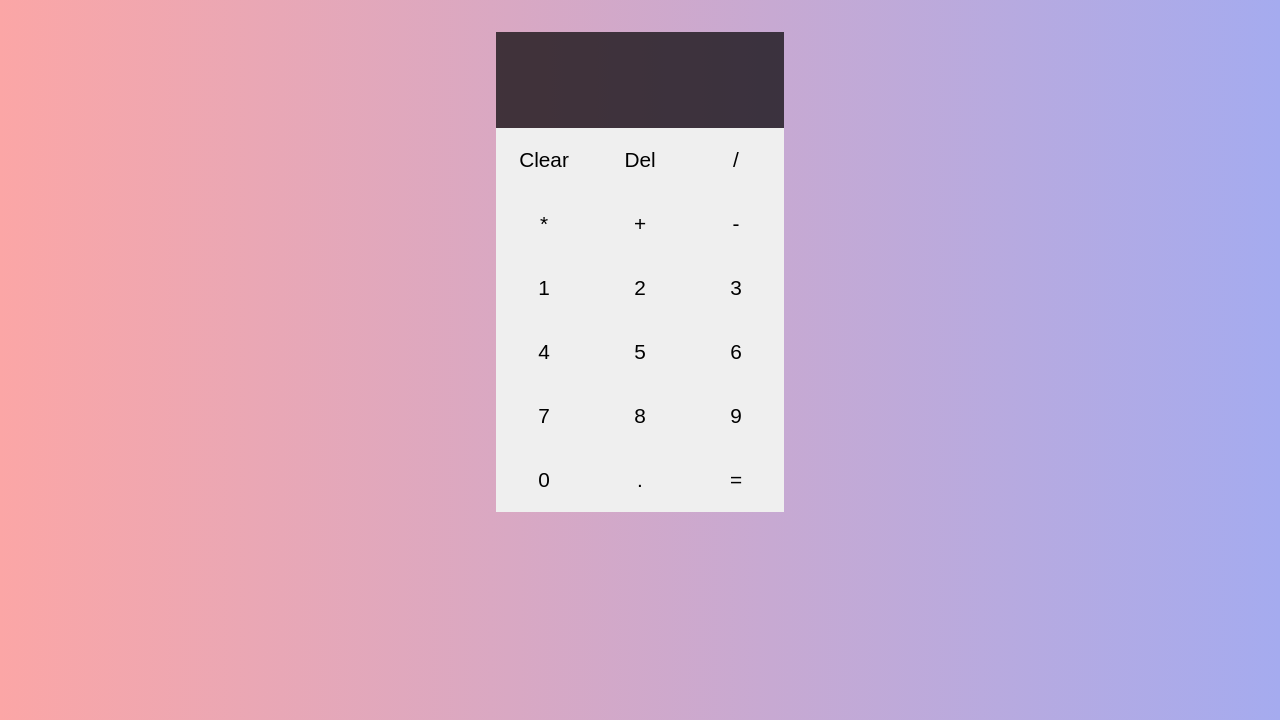
Test case: Operation tests › Should clear all output
What coordinates should you click on to do the following:
click the button "1"
I would click on:
 (544, 288)
Its box is [496,256,592,320].
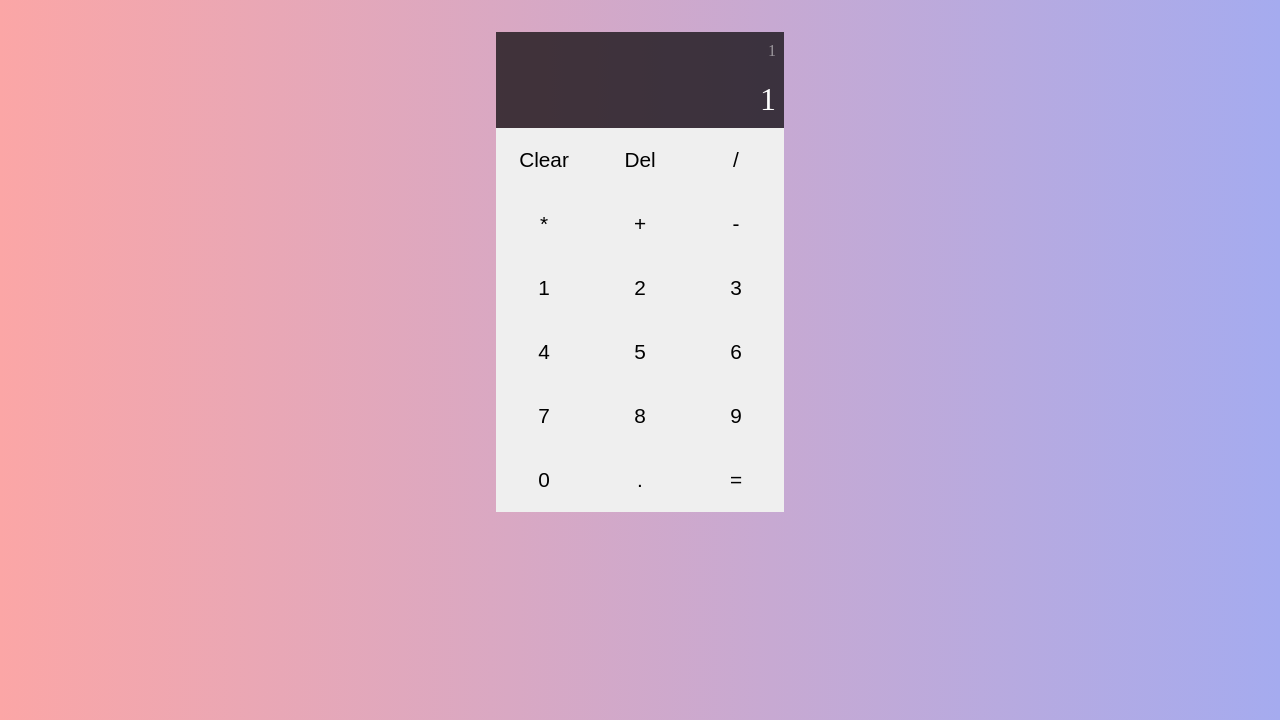
What coordinates should you click on to do the following:
click the button "+"
I would click on:
 (640, 224)
Its box is [592,192,688,256].
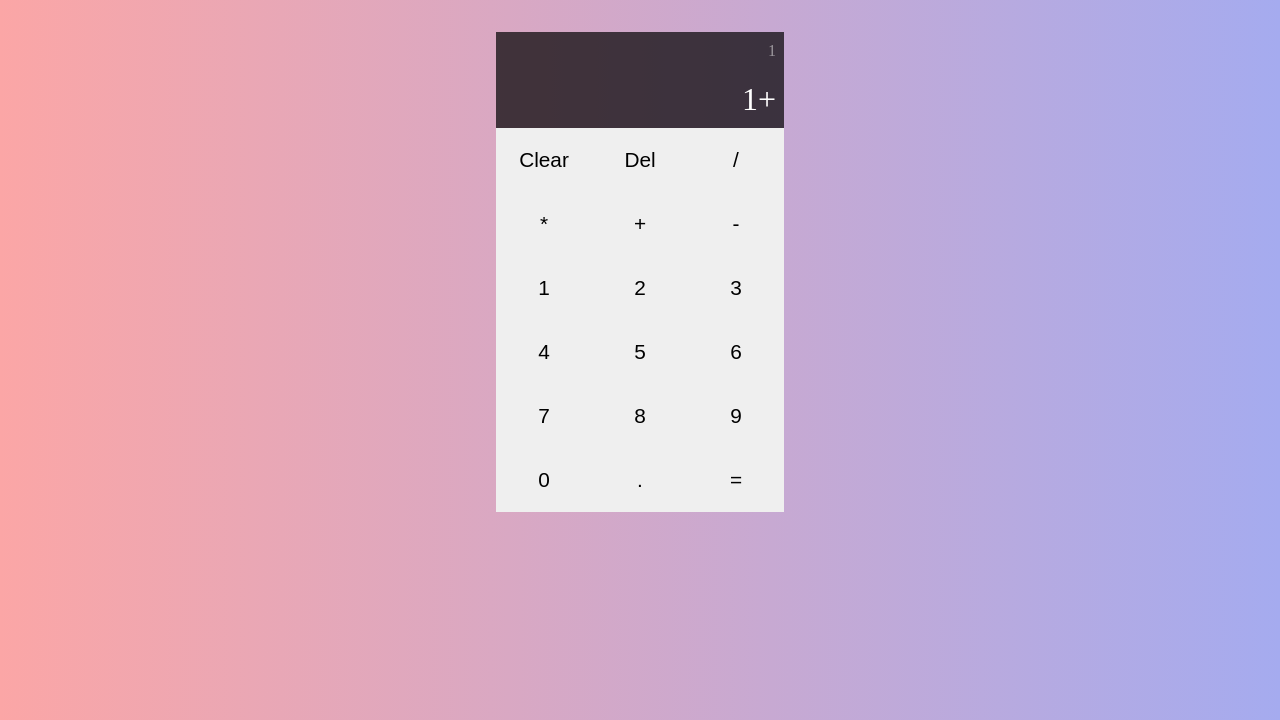
What coordinates should you click on to do the following:
click the button "2"
I would click on:
 (640, 288)
Its box is [592,256,688,320].
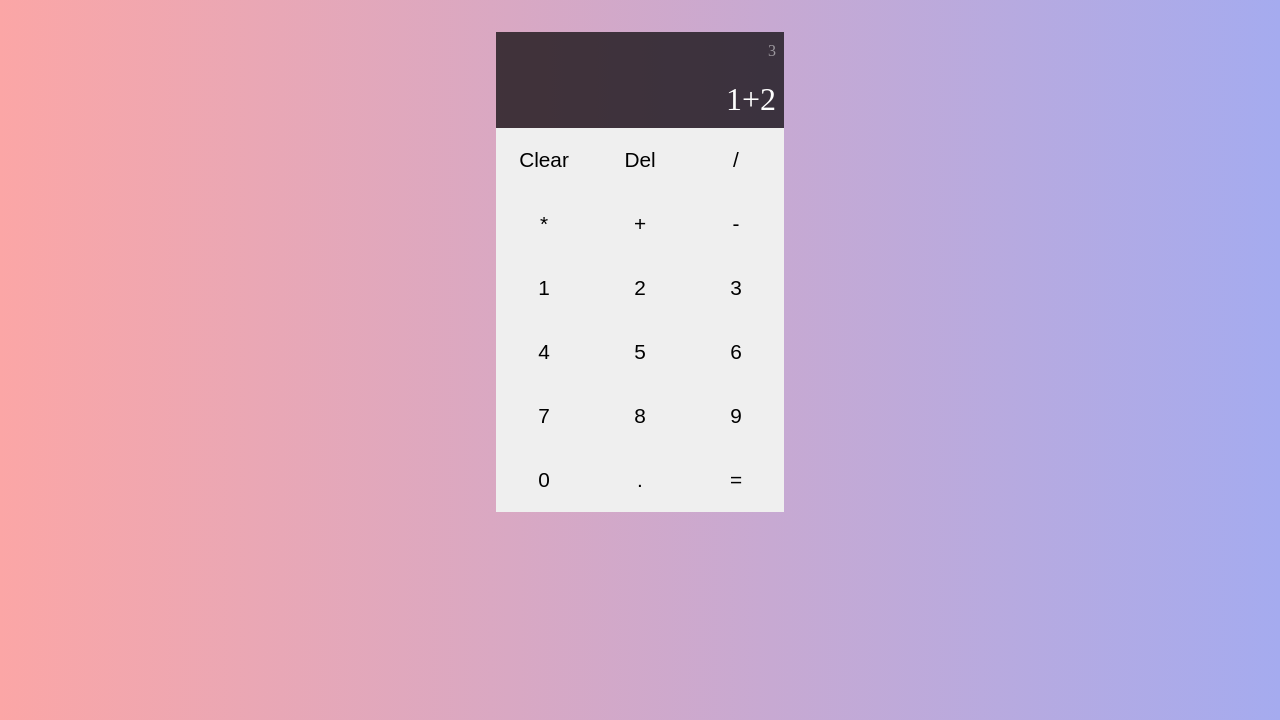
What coordinates should you click on to do the following:
click the button "Clear"
I would click on:
 (544, 160)
Its box is [496,128,592,192].
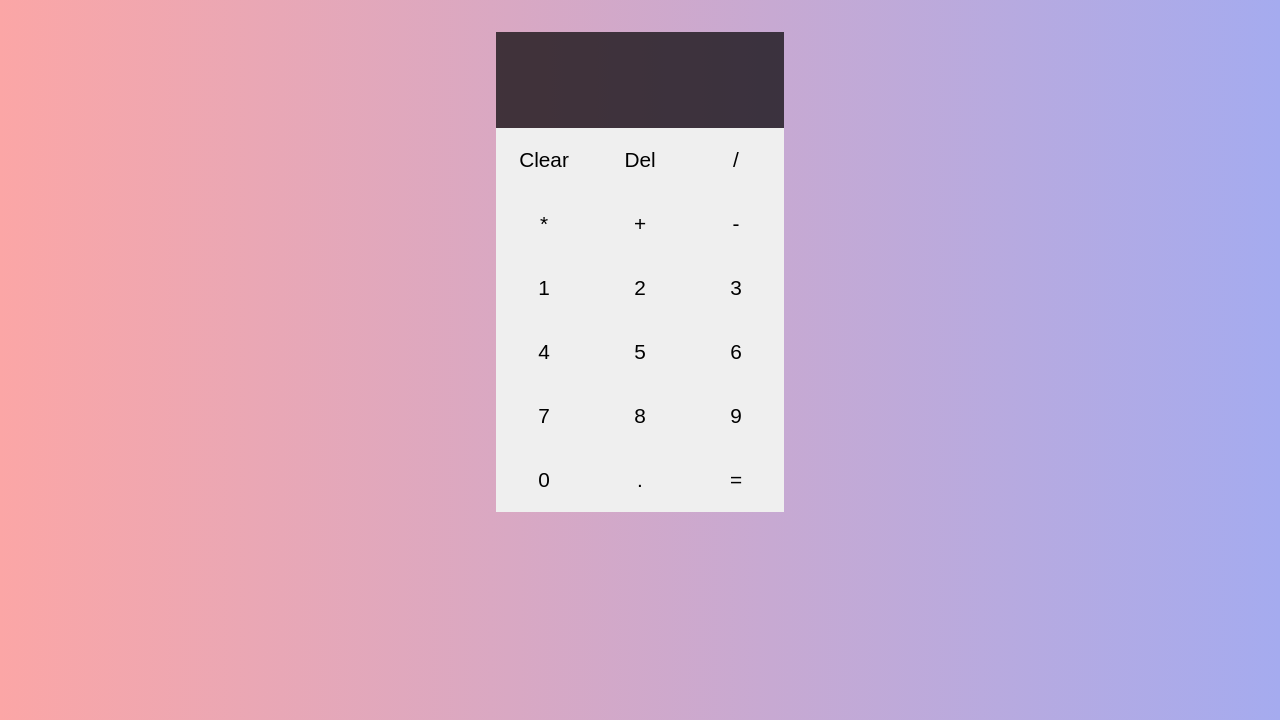
Expected: the element with class "result" is empty, [768,48,784,64]
Expected: the element with class "operation" is empty, [768,96,784,112]
